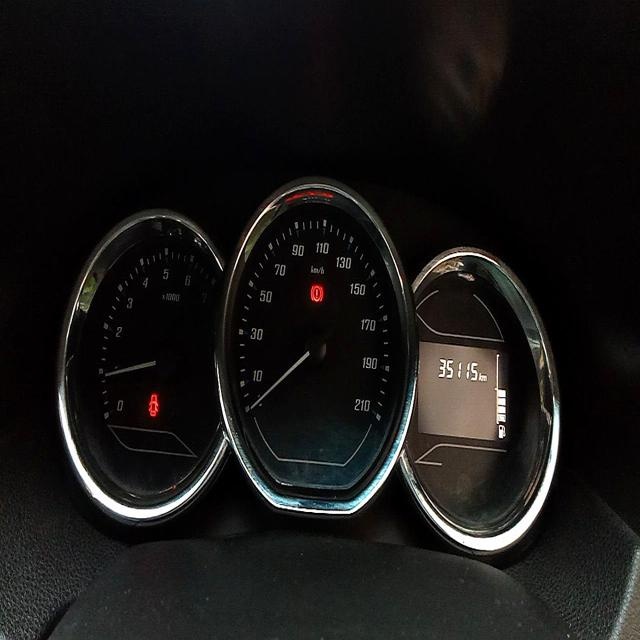odometer: (436, 355, 479, 384)
